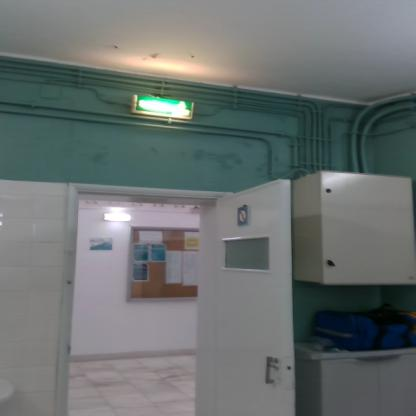open: (58, 172, 304, 416)
